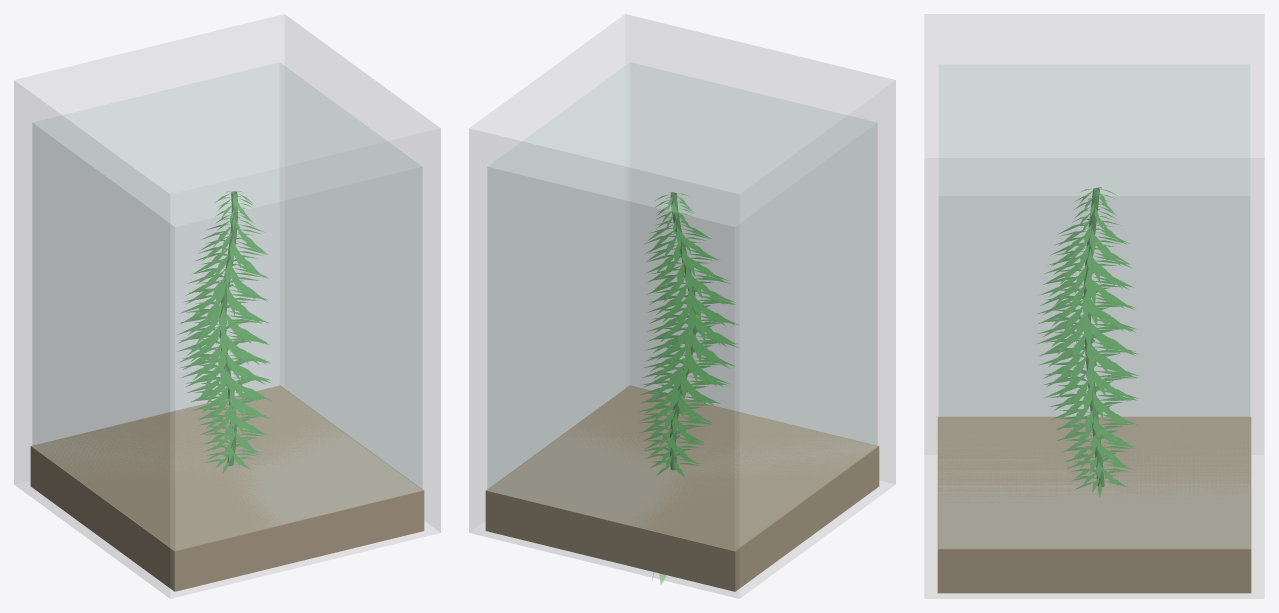
File: plant.glb
3 renders of one model, left to right at view 1: azimuth 30°, elevation 25°; view 2: azimuth 150°, elevation 25°; view 3: azimuth 270°, elevation 25°, orthographic. The views are drawn at different scales.
Visible parts, largest first — view 1: Aquarium_Tank, Water_Volume, Sand_Bed, Egeria_Plant; view 2: Aquarium_Tank, Water_Volume, Sand_Bed, Egeria_Plant; view 3: Aquarium_Tank, Water_Volume, Sand_Bed, Egeria_Plant.
Boxes of the visible parts, left/top/right/bottom form: Aquarium_Tank: left=14, top=14, right=440, bottom=598; Water_Volume: left=32, top=62, right=422, bottom=549; Sand_Bed: left=30, top=385, right=424, bottom=591; Egeria_Plant: left=177, top=191, right=271, bottom=473; Aquarium_Tank: left=469, top=14, right=895, bottom=598; Water_Volume: left=487, top=62, right=877, bottom=549; Sand_Bed: left=485, top=385, right=879, bottom=591; Egeria_Plant: left=639, top=192, right=738, bottom=477; Aquarium_Tank: left=924, top=14, right=1264, bottom=598; Water_Volume: left=939, top=64, right=1249, bottom=548; Sand_Bed: left=937, top=416, right=1251, bottom=593; Egeria_Plant: left=1037, top=187, right=1138, bottom=496.
Bounding box in the file's own units: 1.4 × 2.28 × 1.4.
